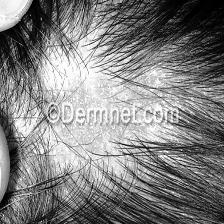Benign Marking or Mole: (46, 73, 166, 152)
